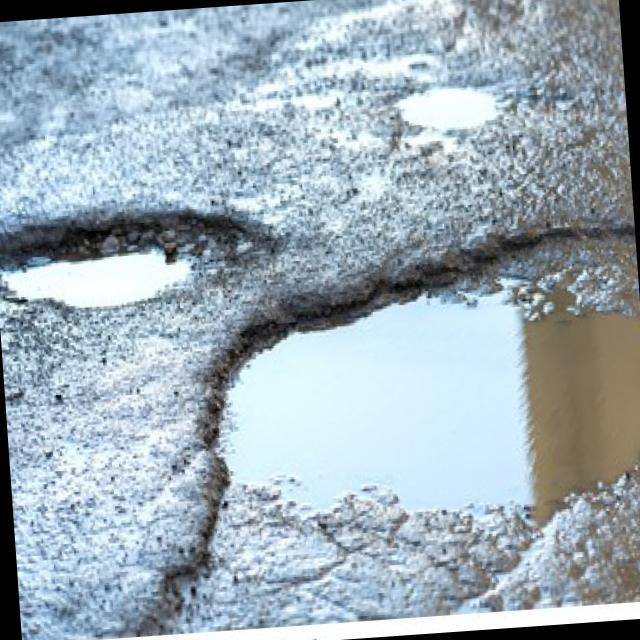Pothole: (185, 206, 640, 538), (0, 184, 280, 325)
